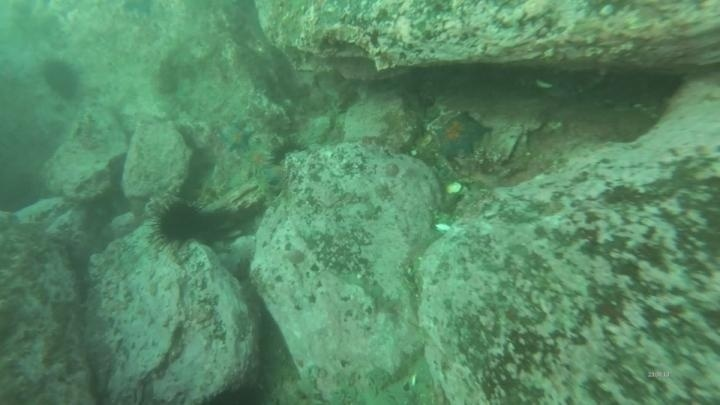echinus: (150, 197, 209, 248), (39, 56, 84, 102), (267, 136, 308, 167)
starfish: (431, 109, 493, 161), (217, 119, 255, 154), (241, 145, 275, 176), (119, 0, 158, 19), (261, 161, 289, 186)
